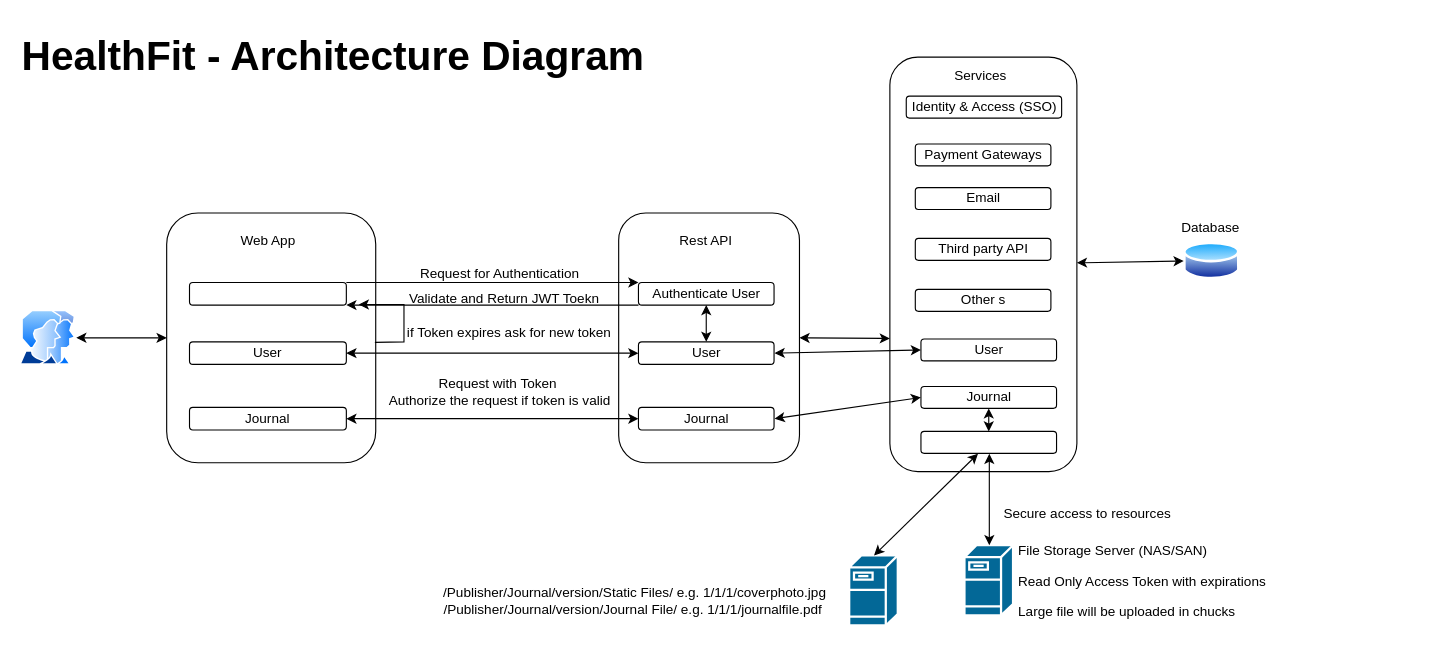
Some shapes in this 1433 by 649 pixel diagram are drawn without their labels. The shapes that lost their labels are listed below. From the top down, each one's box as (x1, y1, x2, y2) in pixels, then its label:
(188, 281, 346, 305): Login
(920, 430, 1057, 453): DMS
(584, 555, 833, 590): Static File Storage Server (NAS/SAN)
(1005, 550, 1413, 585): /Publisher/Journal/version/Journal File/ e.g. 1/1/1/journalfile.pdf
(999, 578, 1407, 613): Enabled Solr Indexer for fast document finding and processing
